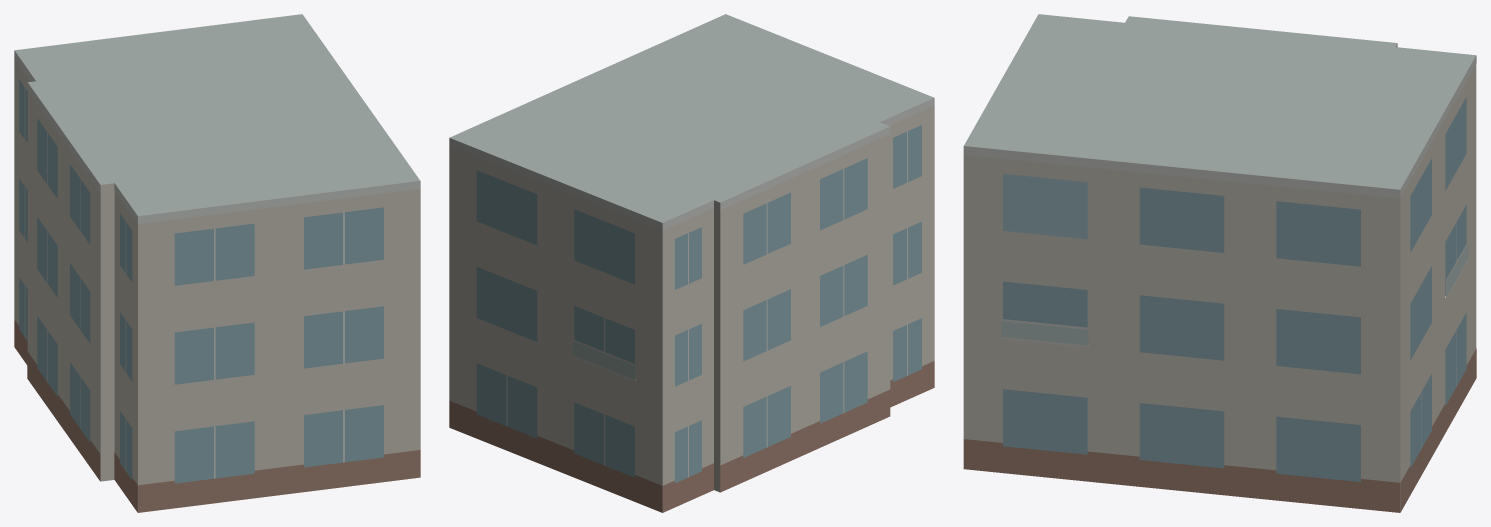
The model's file is survey-upis-32810967.glb.
3 views of the same model, side by side, from view 1: azimuth 30°, elevation 25°; view 2: azimuth 150°, elevation 25°; view 3: azimuth 270°, elevation 25° (orthographic). The views are drawn at different scales.
Visible parts, largest first — view 1: survey-upis-32810967.tmp; view 2: survey-upis-32810967.tmp; view 3: survey-upis-32810967.tmp.
Boxes of the visible parts, x1=… form: survey-upis-32810967.tmp: x1=14, y1=14, x2=420, y2=512; survey-upis-32810967.tmp: x1=449, y1=14, x2=934, y2=512; survey-upis-32810967.tmp: x1=963, y1=14, x2=1476, y2=512.
Size of the model in its own units: 10.68 by 9.15 by 13.17.
